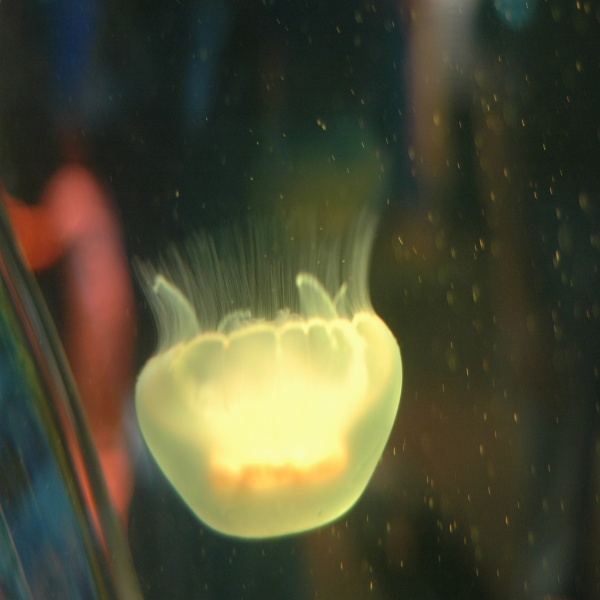Jellyfish: (125, 215, 412, 531)
